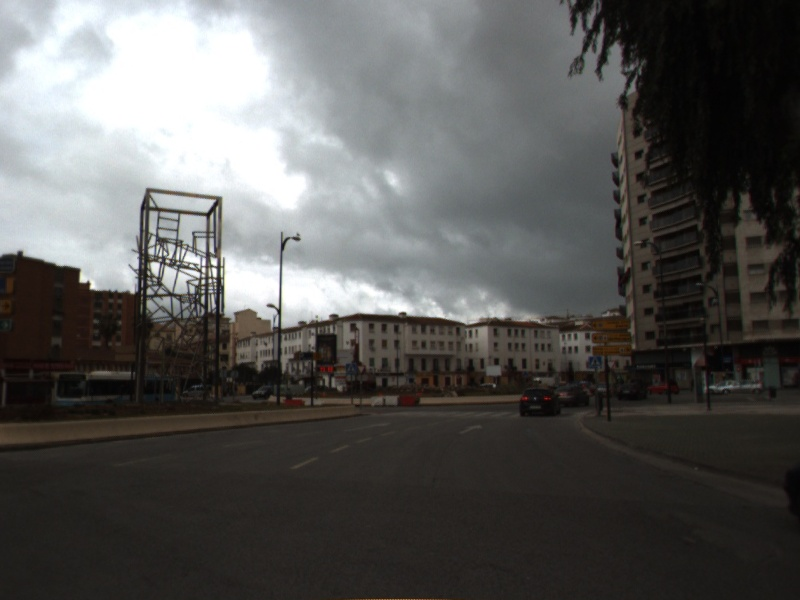STRAIGHT: (457, 423, 485, 436)
